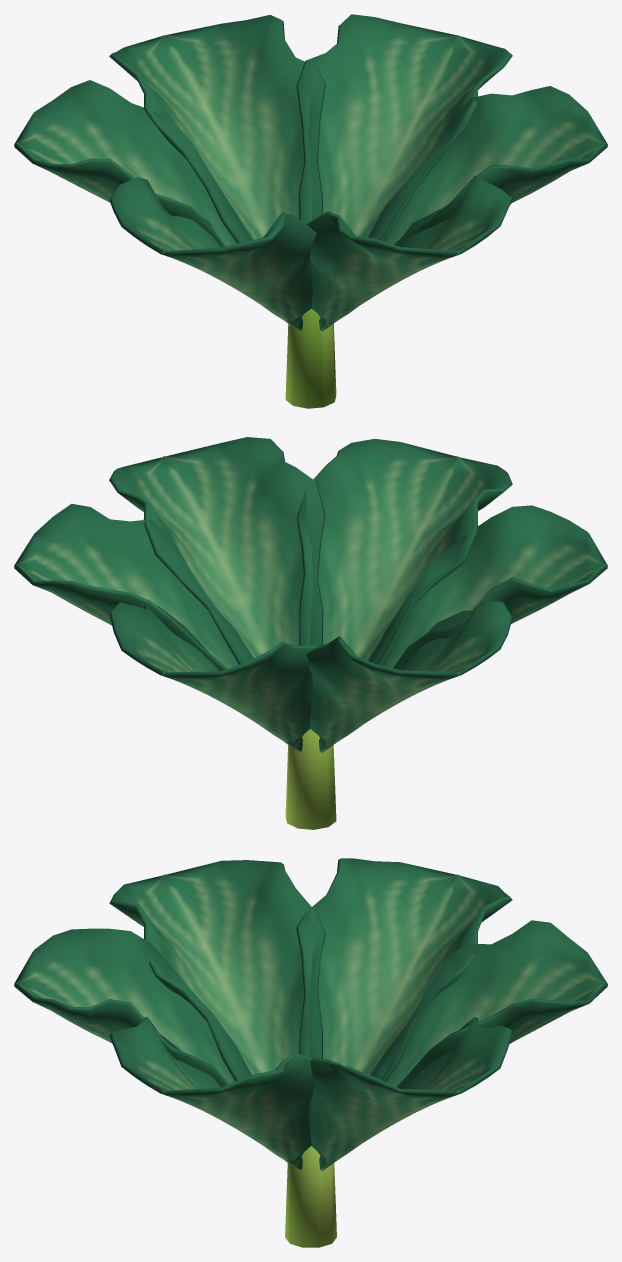
The model's file is NP_Broccoli_Young.fbx.
The picture shows the model from 3 angles, top to bottom: view 1: azimuth 30°, elevation 25°; view 2: azimuth 150°, elevation 25°; view 3: azimuth 270°, elevation 25°; orthographic projection.
Visible parts, largest first — view 1: NP_Broccoli_Young; view 2: NP_Broccoli_Young; view 3: NP_Broccoli_Young.
Boxes of the visible parts, left/top/right/bottom form: NP_Broccoli_Young: left=14, top=14, right=607, bottom=408; NP_Broccoli_Young: left=14, top=437, right=607, bottom=829; NP_Broccoli_Young: left=14, top=858, right=607, bottom=1247.
Size of the model in its own units: 51.88 by 29.53 by 57.05.
